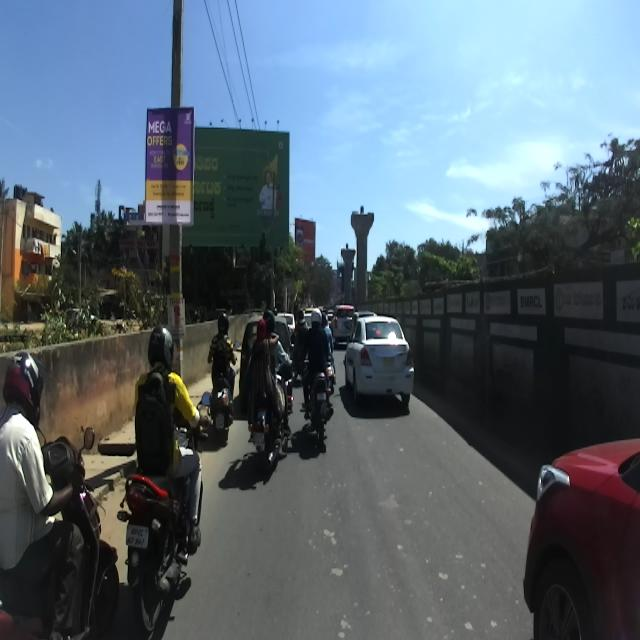car ahead at: (344, 317, 418, 406)
motorcycle ahead at: (118, 459, 194, 625)
